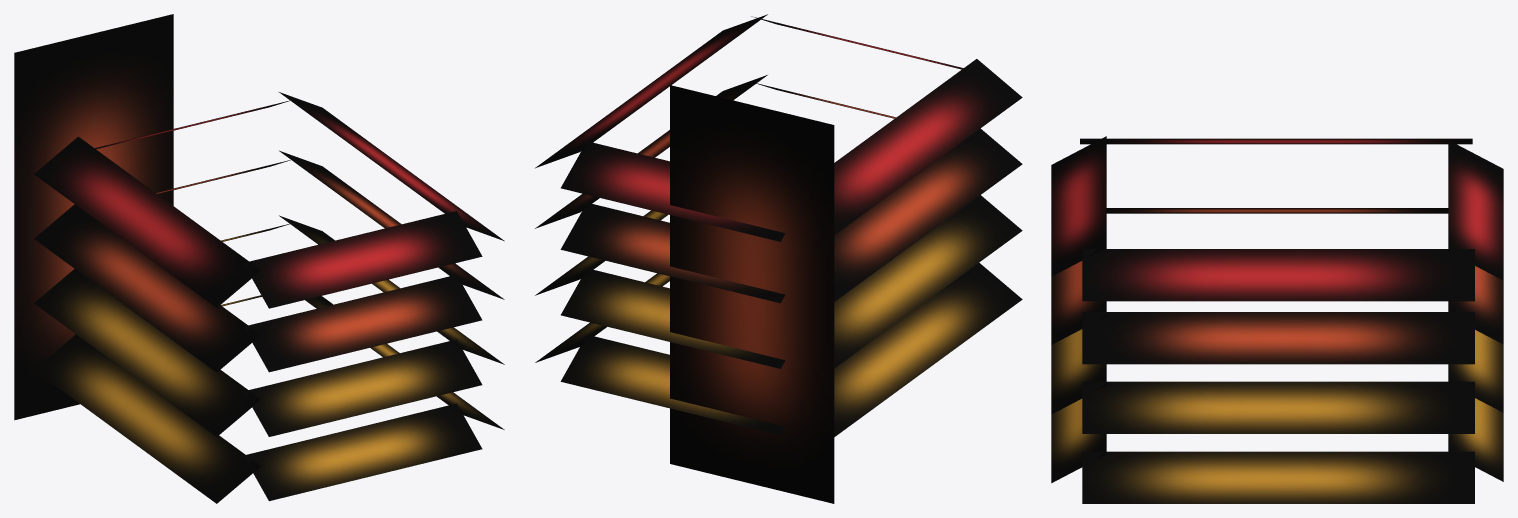
File: buildlight03.FBX
3 views of the same model, side by side, from view 1: azimuth 30°, elevation 25°; view 2: azimuth 150°, elevation 25°; view 3: azimuth 270°, elevation 25° (orthographic). The views are drawn at different scales.
Visible parts, largest first — view 1: buildlight03; view 2: buildlight03; view 3: buildlight03.
Part boxes in pixels (x1,y1,x2,y2): buildlight03: (14,14,504,503); buildlight03: (535,14,1022,503); buildlight03: (1051,136,1503,503).
Size of the model in its own units: 0.945 by 1.15 by 1.11.
1 material, 1 textured.
